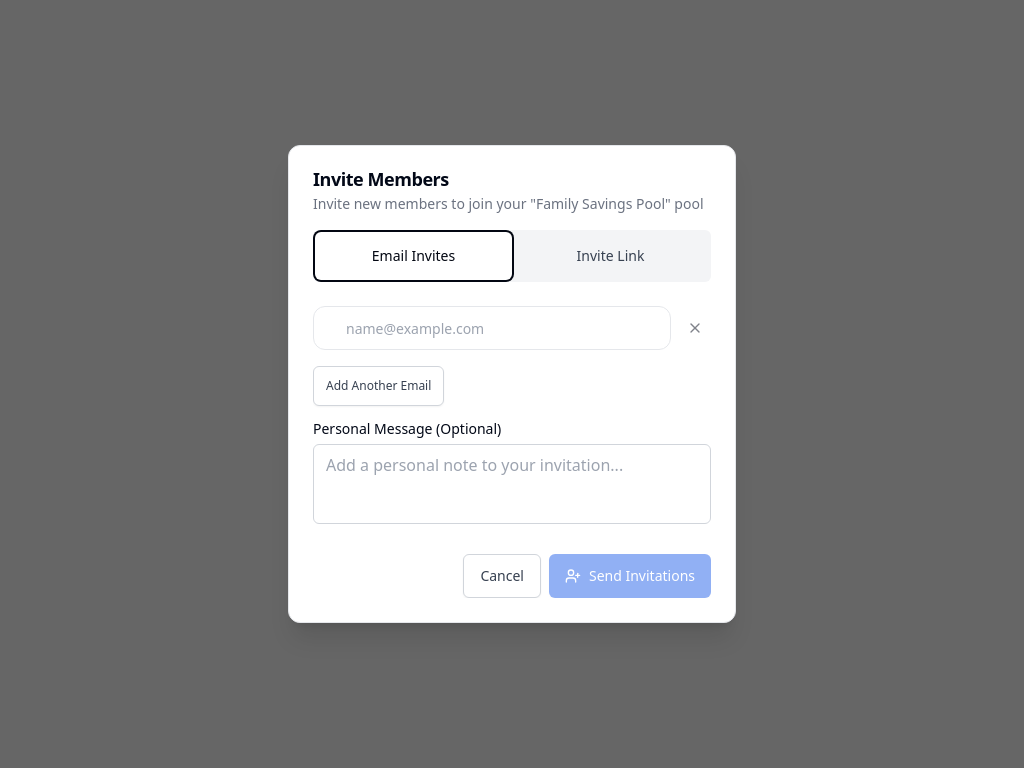
Test: InviteMembersDialog Component › Invite Link Tab › switches to invite link tab when clicked
The image size is (1024, 768).
Click the tab "Invite Link" at (610, 256), box [514, 234, 707, 278]
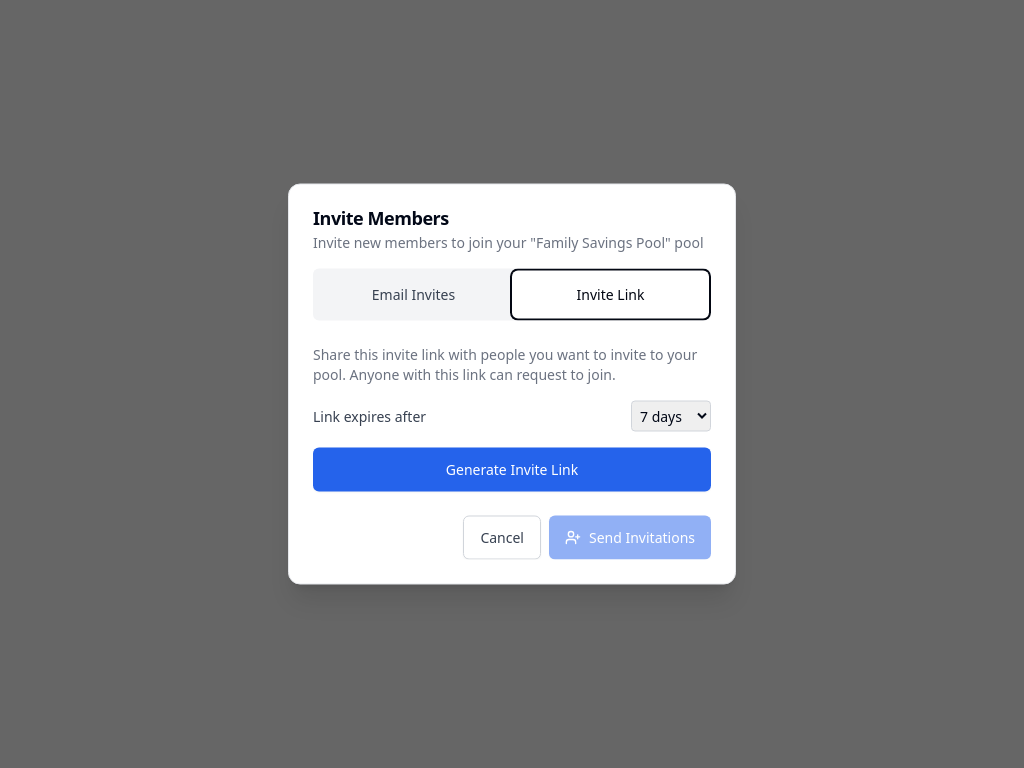
Expected: the text "Share this invite link" is shown, [313, 344, 697, 384]
